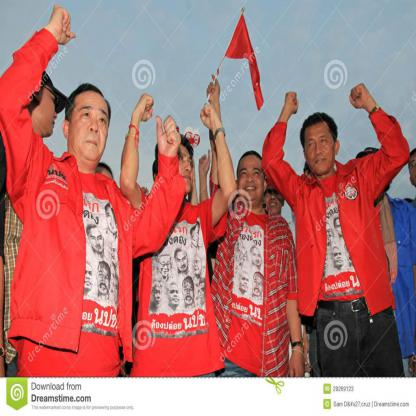face: (74, 97, 110, 160), (306, 130, 335, 174), (39, 82, 58, 134), (173, 143, 193, 192), (240, 161, 264, 201), (264, 181, 284, 217), (90, 229, 105, 254), (98, 266, 110, 295), (106, 209, 119, 234), (82, 266, 94, 291), (169, 286, 181, 306), (184, 284, 195, 305), (160, 257, 171, 277), (410, 153, 416, 189), (254, 275, 264, 296), (177, 253, 188, 272), (322, 225, 333, 243), (346, 246, 357, 264), (253, 249, 263, 268), (241, 273, 251, 292), (153, 288, 163, 305), (320, 254, 329, 272), (193, 257, 202, 275), (334, 250, 344, 266), (336, 220, 346, 236), (199, 285, 207, 305), (192, 227, 200, 247)
